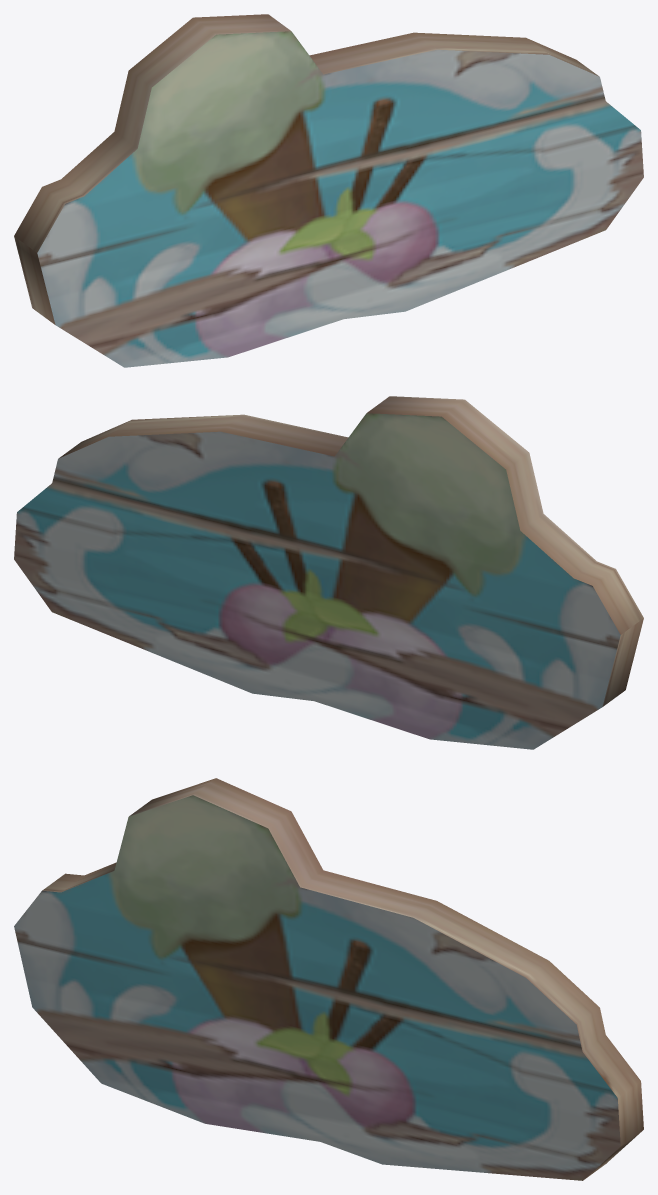
Rendered from map_1002_xwj_33.FBX.
3 renders of one model, top to bottom at view 1: azimuth 30°, elevation 25°; view 2: azimuth 150°, elevation 25°; view 3: azimuth 330°, elevation 25°, orthographic.
Parts seen in each view (by area): view 1: map_1002_xwj_33; view 2: map_1002_xwj_33; view 3: map_1002_xwj_33.
Boxes of the visible parts, x1,y1,x2,y2 form: map_1002_xwj_33: (14,14,643,367); map_1002_xwj_33: (14,396,643,749); map_1002_xwj_33: (14,778,643,1180).
Size of the model in its own units: 2.14 by 1.1 by 0.1421.
